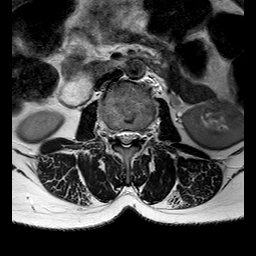CCS_normal: (123, 119, 129, 155)
LFS_normal: (136, 121, 145, 147)
LLS_normal: (129, 120, 136, 148)
RFS_normal: (107, 119, 115, 148)
RLS_stenosis: (115, 120, 123, 147)
